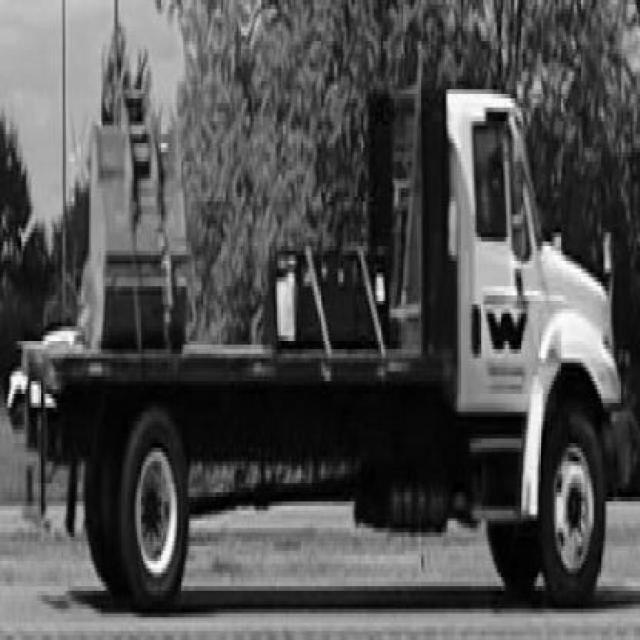Box Truck: (9, 88, 640, 614)
